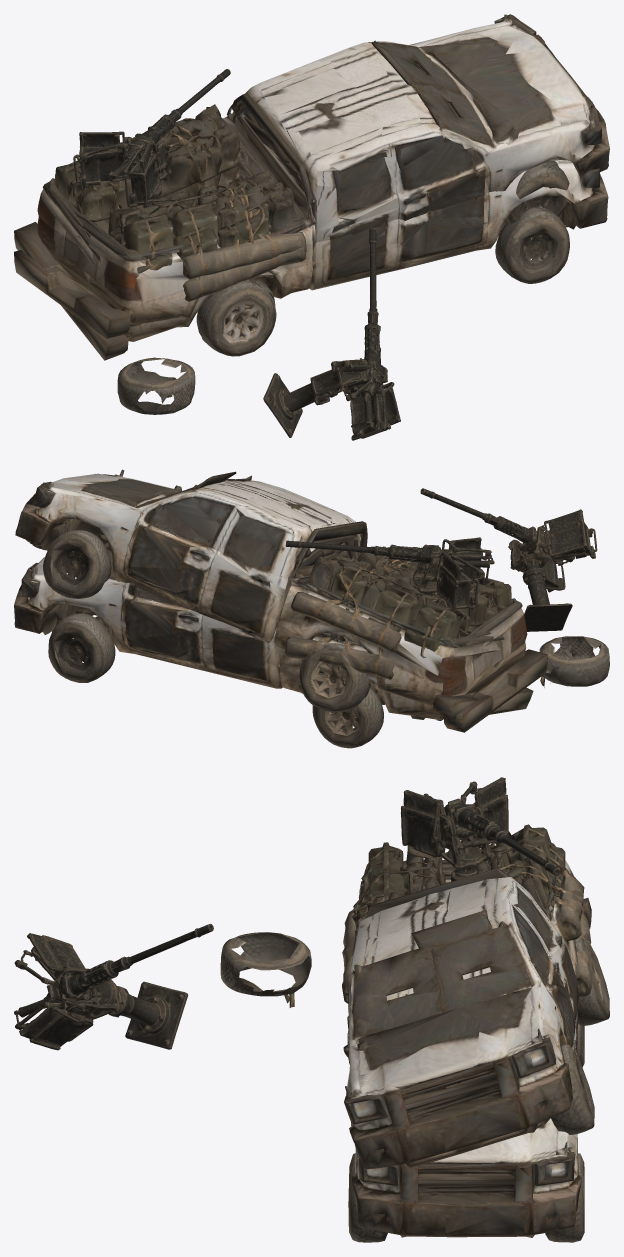
File: technical.glb
3 renders of one model, top to bottom at view 1: azimuth 30°, elevation 25°; view 2: azimuth 150°, elevation 25°; view 3: azimuth 270°, elevation 25°, orthographic. The views are drawn at different scales.
Parts seen in each view (by area): view 1: WRECK_hull_hull, hull_hull, WRECK_hull_plate, WRECK_hull_metal, hull_metal, hull_rubber, WRECK_turret_metal, turret_metal, WRECK_hull_rubber, hull_plate; view 2: WRECK_hull_hull, hull_hull, WRECK_hull_plate, WRECK_hull_rubber, hull_metal, WRECK_turret_metal, WRECK_hull_metal, hull_rubber, turret_metal, hull_plate; view 3: WRECK_hull_hull, WRECK_hull_plate, WRECK_hull_metal, hull_metal, WRECK_turret_metal, WRECK_hull_rubber, turret_metal, hull_hull, hull_rubber.
Part boxes in pixels (<box>): WRECK_hull_hull: <box>37,14,606,341</box>; hull_hull: <box>37,147,604,324</box>; WRECK_hull_plate: <box>223,40,518,242</box>; WRECK_hull_metal: <box>14,32,609,360</box>; hull_metal: <box>14,166,608,338</box>; hull_rubber: <box>196,207,569,356</box>; WRECK_turret_metal: <box>263,228,400,440</box>; turret_metal: <box>73,69,230,207</box>; WRECK_hull_rubber: <box>117,161,569,414</box>; hull_plate: <box>242,114,489,266</box>; WRECK_hull_hull: <box>34,469,518,705</box>; hull_hull: <box>22,548,527,720</box>; WRECK_hull_plate: <box>111,471,367,623</box>; WRECK_hull_rubber: <box>43,528,609,711</box>; hull_metal: <box>14,547,547,732</box>; WRECK_turret_metal: <box>420,488,597,631</box>; WRECK_hull_metal: <box>15,483,533,721</box>; hull_rubber: <box>48,611,383,748</box>; turret_metal: <box>285,537,494,609</box>; hull_plate: <box>109,541,356,667</box>; WRECK_hull_hull: <box>342,827,584,1134</box>; WRECK_hull_plate: <box>343,868,576,1063</box>; WRECK_hull_metal: <box>344,824,591,1169</box>; hull_metal: <box>354,842,579,1237</box>; WRECK_turret_metal: <box>14,923,213,1050</box>; WRECK_hull_rubber: <box>220,932,609,1153</box>; turret_metal: <box>400,777,560,881</box>; hull_hull: <box>342,847,591,1242</box>; hull_rubber: <box>348,1024,584,1242</box>.
Size of the model in its own units: 5.26 by 2.12 by 4.29.
2 materials, 2 textured.
